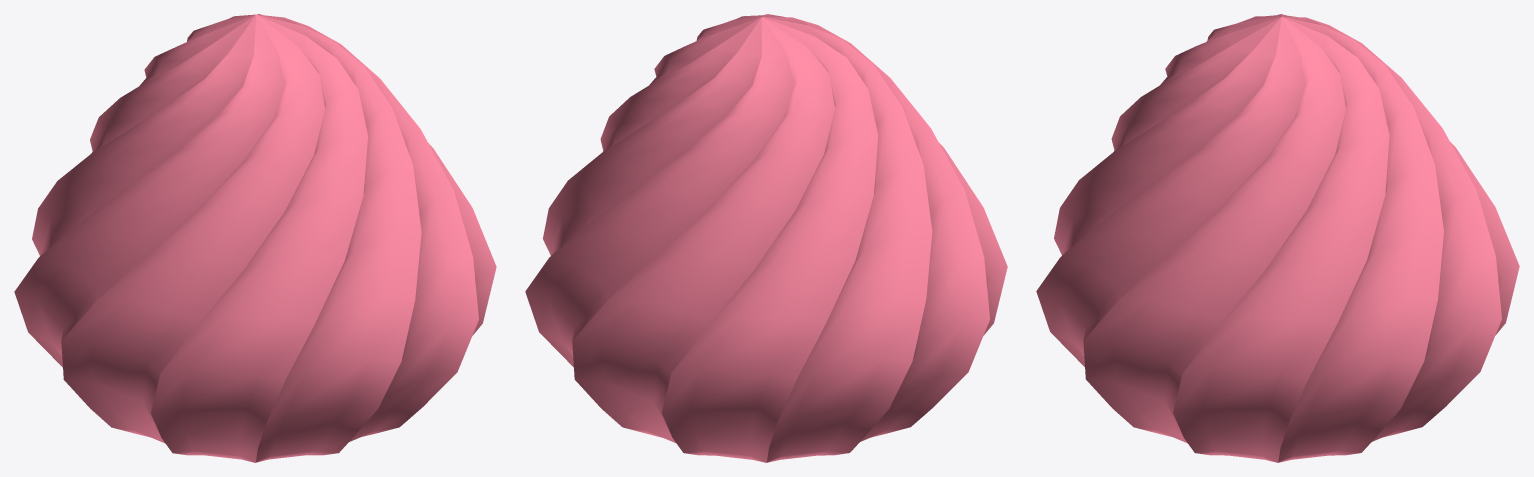
Rendered from Ice Cream Spiral B Pink.fbx.
3 views of the same model, side by side, from view 1: azimuth 30°, elevation 25°; view 2: azimuth 150°, elevation 25°; view 3: azimuth 270°, elevation 25° (orthographic).
Parts seen in each view (by area): view 1: Ice Cream Spiral B Pink; view 2: Ice Cream Spiral B Pink; view 3: Ice Cream Spiral B Pink.
Part boxes in pixels (x1,y1,x2,y2): Ice Cream Spiral B Pink: [14, 14, 496, 462]; Ice Cream Spiral B Pink: [525, 14, 1007, 462]; Ice Cream Spiral B Pink: [1036, 14, 1519, 462].
Bounding box in the file's own units: 0.4173 × 0.3732 × 0.4173.
